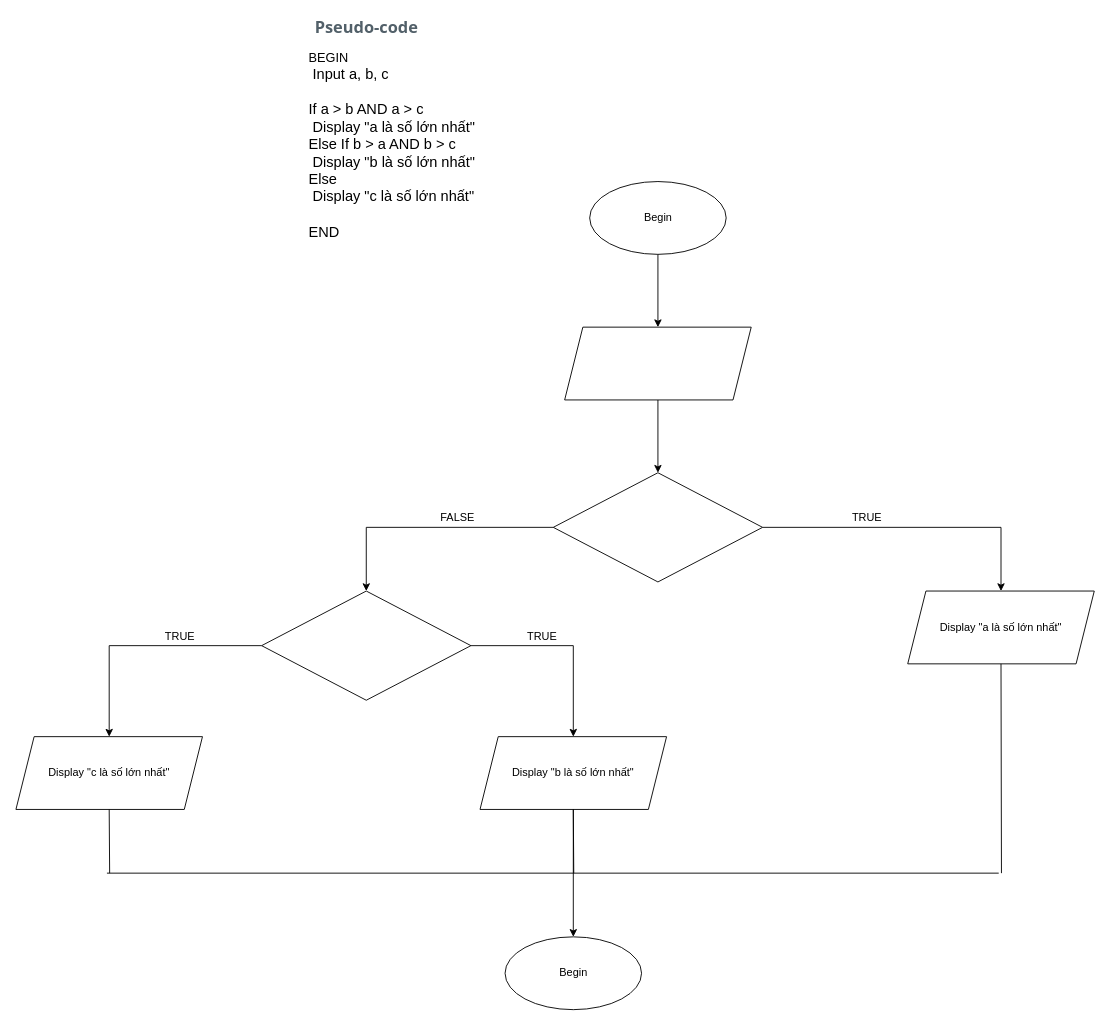
The diagram is 1110 pixels wide and 1026 high, and some of its shapes have lost their labels. The box of each missing label's shape, as (x1, y1, x2, y2) in pixels:
a > b && a > c: (552, 472, 763, 582)
b > a && b > c: (261, 590, 471, 700)
Input a, b c: (564, 326, 751, 400)
